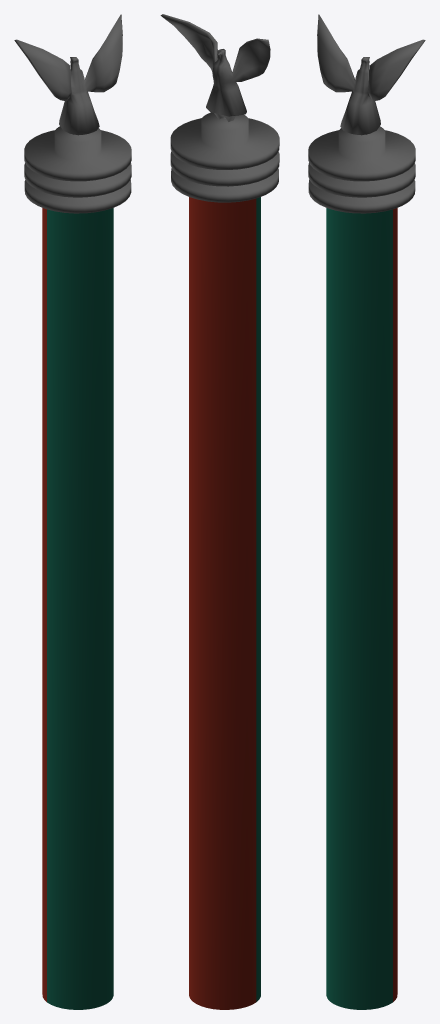
The model's file is VeteraphonePillars.glb.
The picture shows the model from 3 angles, left to right: view 1: azimuth 30°, elevation 25°; view 2: azimuth 150°, elevation 25°; view 3: azimuth 330°, elevation 25°; orthographic projection.
Parts seen in each view (by area): view 1: Cube; view 2: Cube; view 3: Cube.
Boxes of the visible parts, x1,y1,x2,y2 form: Cube: [14, 14, 131, 1009]; Cube: [160, 14, 279, 1009]; Cube: [308, 14, 425, 1009].
Size of the model in its own units: 2.78 by 23.82 by 2.42.
